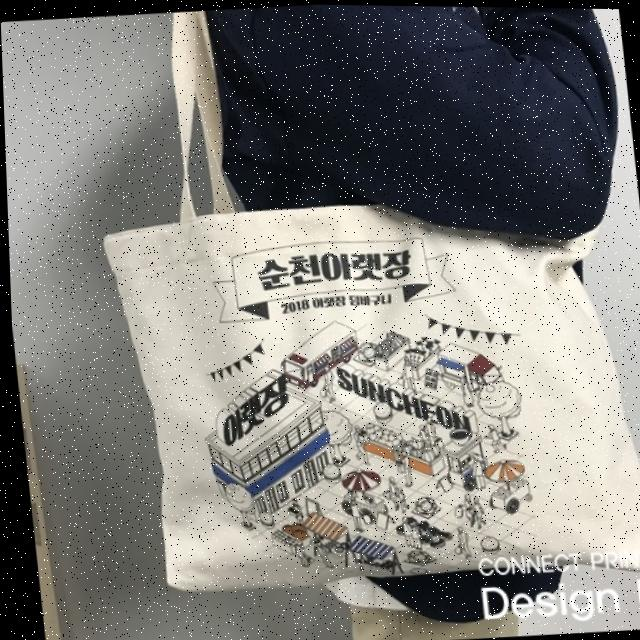ecobag: (73, 1, 640, 615)
